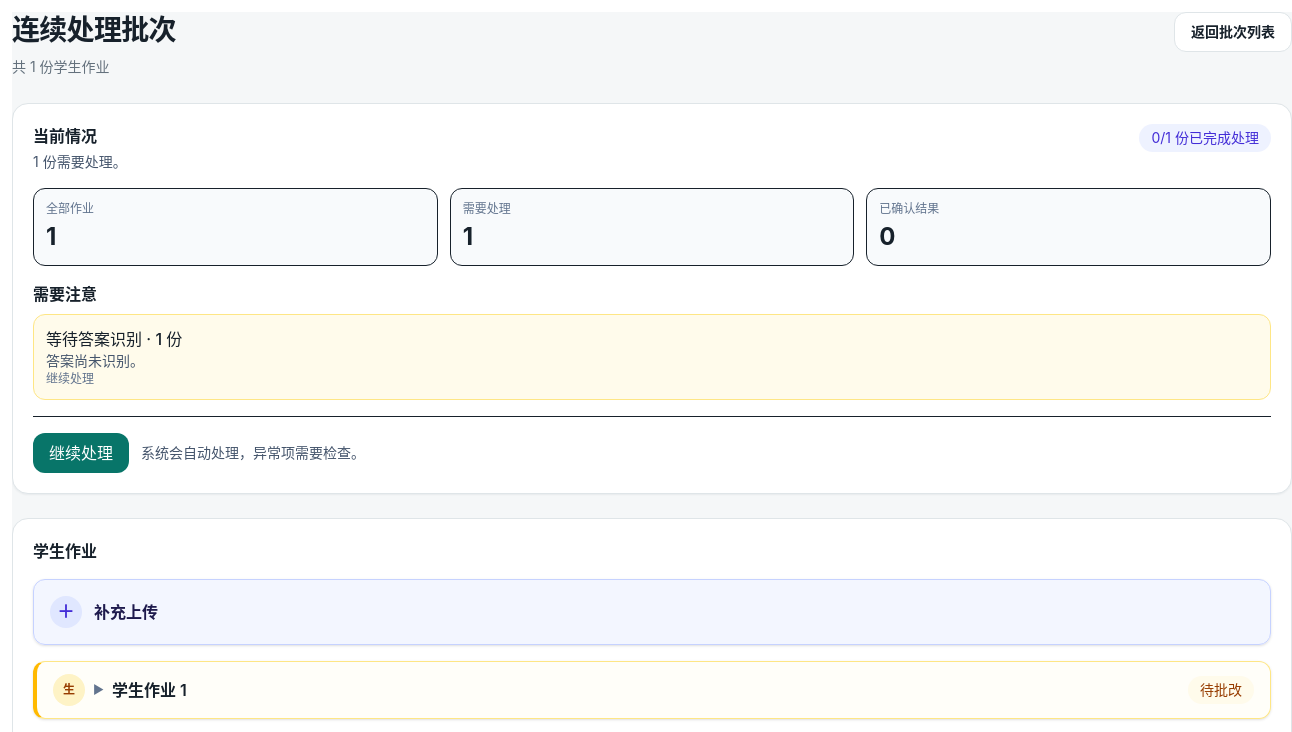
shows a submission-level processing blocker only once
The image size is (1292, 732).
Step 1. Click the button with test id "continue-processing-to-teacher-review" → (81, 453), box [33, 433, 129, 473]
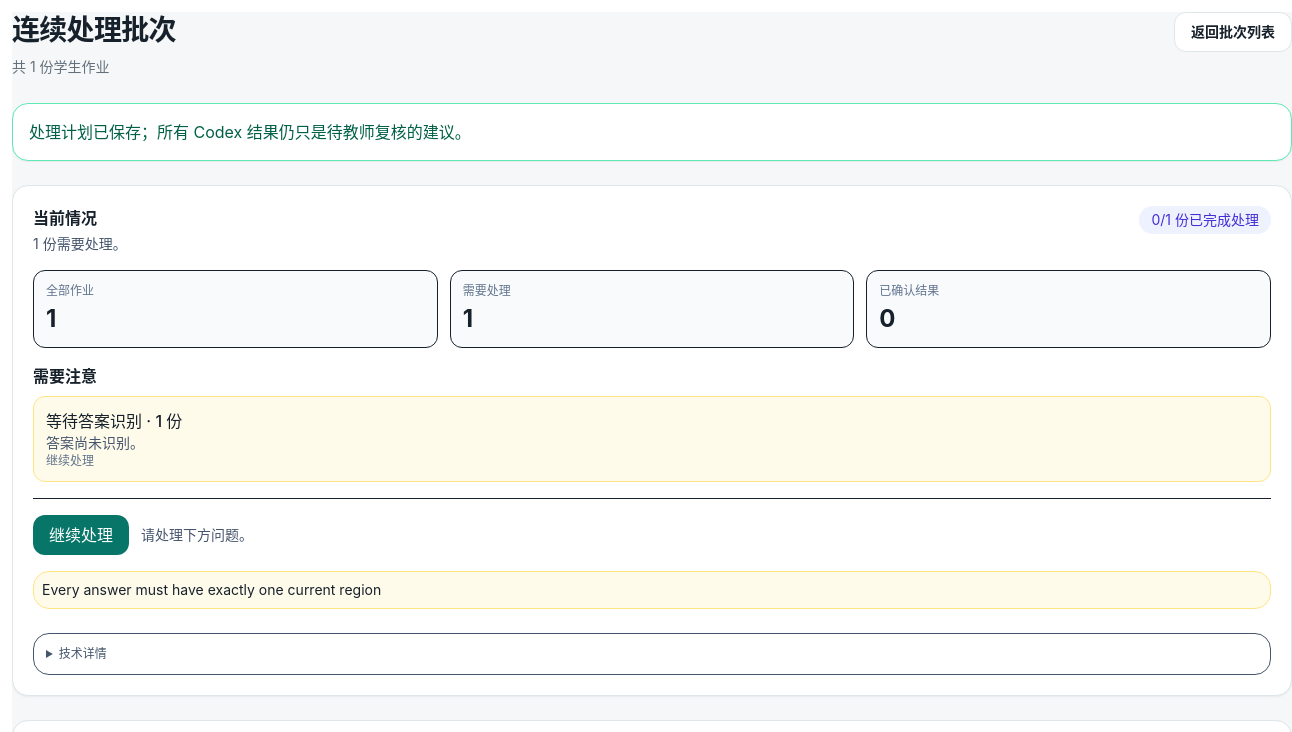
Expected: the text "Every answer must have exactly one current region" is shown once, [33, 571, 1271, 609]
